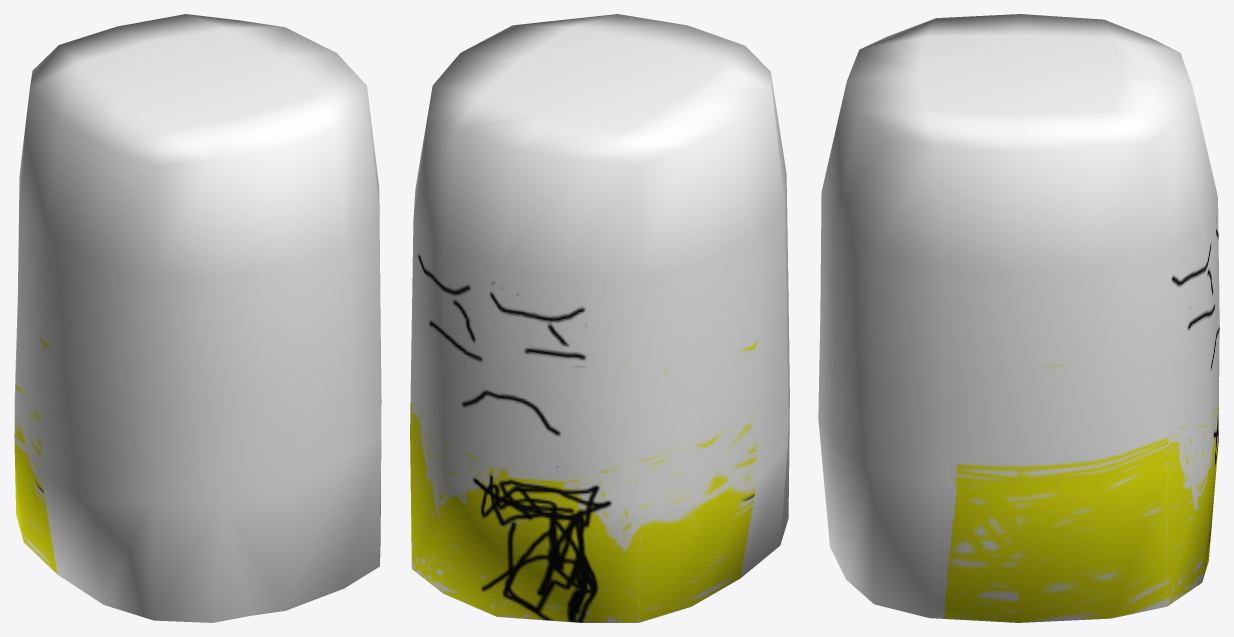
Rendered from ammo.fbx.
3 renders of one model, left to right at view 1: azimuth 30°, elevation 25°; view 2: azimuth 150°, elevation 25°; view 3: azimuth 270°, elevation 25°, orthographic. The views are drawn at different scales.
Parts seen in each view (by area): view 1: pCube1; view 2: pCube1; view 3: pCube1.
Part boxes in pixels (bbox=[...]): pCube1: bbox=[14, 14, 381, 622]; pCube1: bbox=[410, 14, 789, 622]; pCube1: bbox=[818, 14, 1219, 622].
Size of the model in its own units: 3.4 by 4.87 by 3.67.
1 material, 1 textured.
